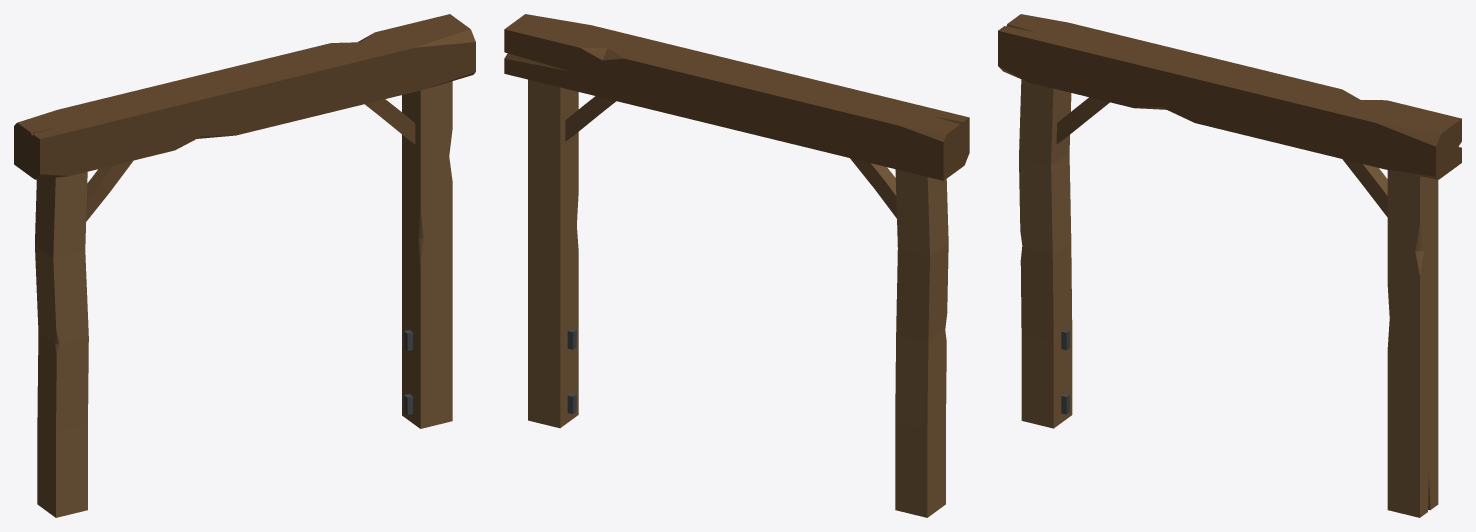
Rendered from Mesh_Props_Arch_02.FBX.
3 views of the same model, side by side, from view 1: azimuth 30°, elevation 25°; view 2: azimuth 150°, elevation 25°; view 3: azimuth 330°, elevation 25° (orthographic).
Parts seen in each view (by area): view 1: Mesh_Props_Arch_02; view 2: Mesh_Props_Arch_02; view 3: Mesh_Props_Arch_02.
Part boxes in pixels (x1=…): Mesh_Props_Arch_02: x1=14, y1=14, x2=475, y2=517; Mesh_Props_Arch_02: x1=504, y1=14, x2=969, y2=517; Mesh_Props_Arch_02: x1=998, y1=14, x2=1461, y2=517.
Size of the model in its own units: 467 by 47.87 by 395.
